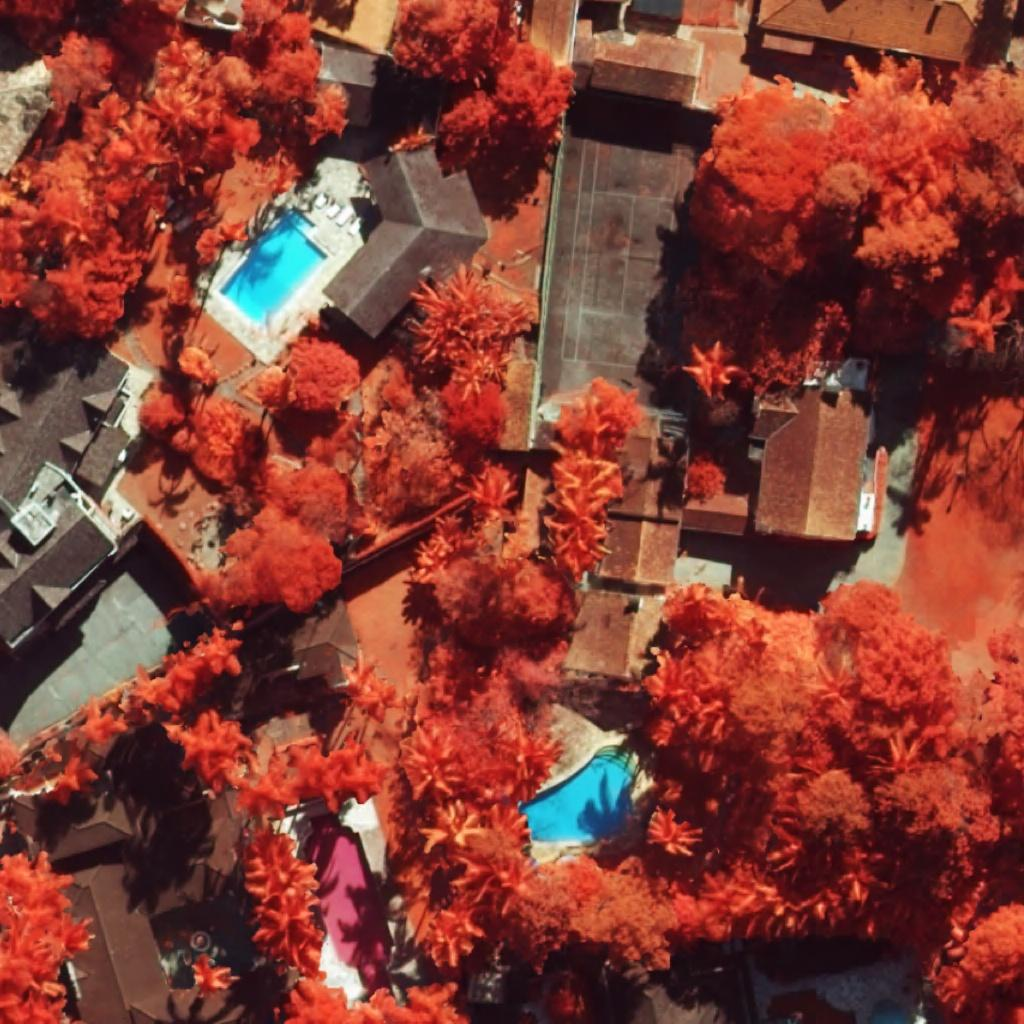pool: (219, 207, 327, 325), (519, 745, 636, 843), (868, 998, 908, 1024)
